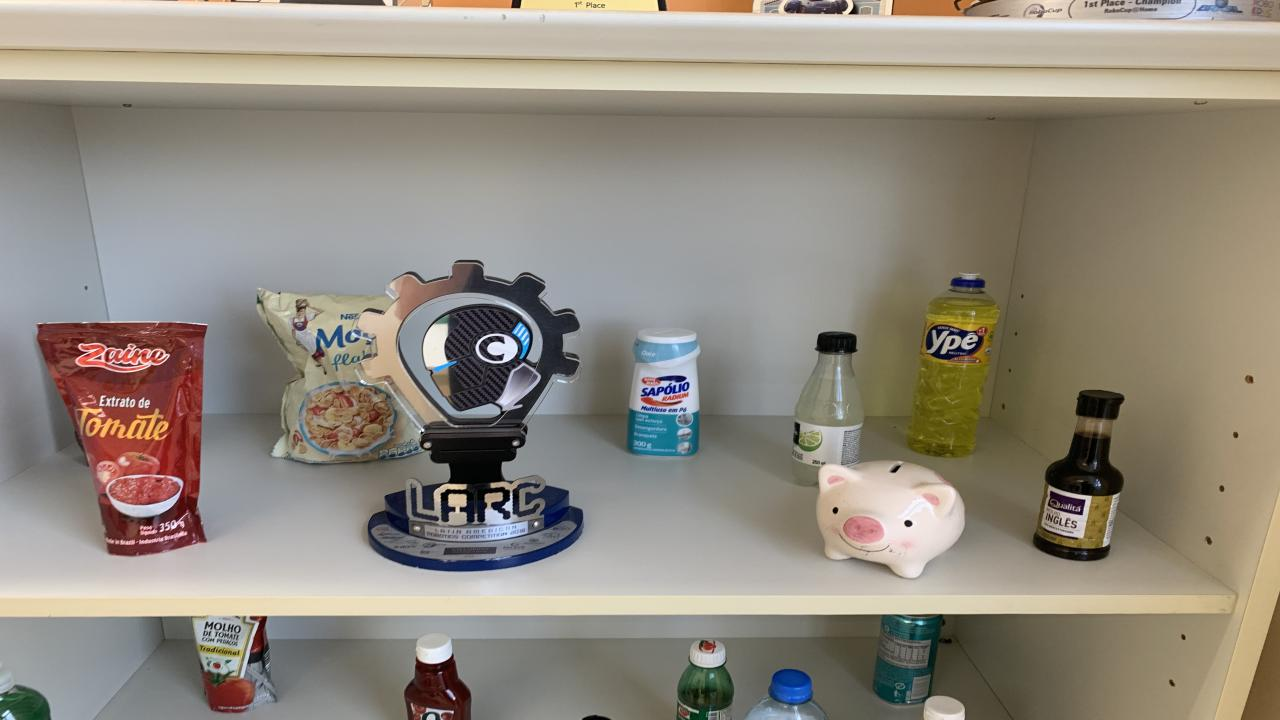Cleaner-Cleanup_Items: (628, 330, 700, 458)
Detergent-Cleanup_Items: (908, 274, 1000, 458), (0, 664, 50, 720)
English_Sauce-Pantry_Items: (1032, 390, 1125, 561)
Flakes-Snacks: (258, 289, 420, 463)
Guarana-Drinks: (678, 639, 735, 720)
Ketchup-Pantry_Items: (405, 634, 470, 720)
Soda-Drinks: (792, 332, 865, 486)
Tea-Drinks: (872, 615, 942, 705)
Tomato_Sauce-Pantry_Items: (38, 322, 208, 555), (192, 615, 278, 712)
Trophy-Miscellaneous: (358, 261, 582, 570)
Water_Bottle-Drinks: (745, 669, 828, 720)
